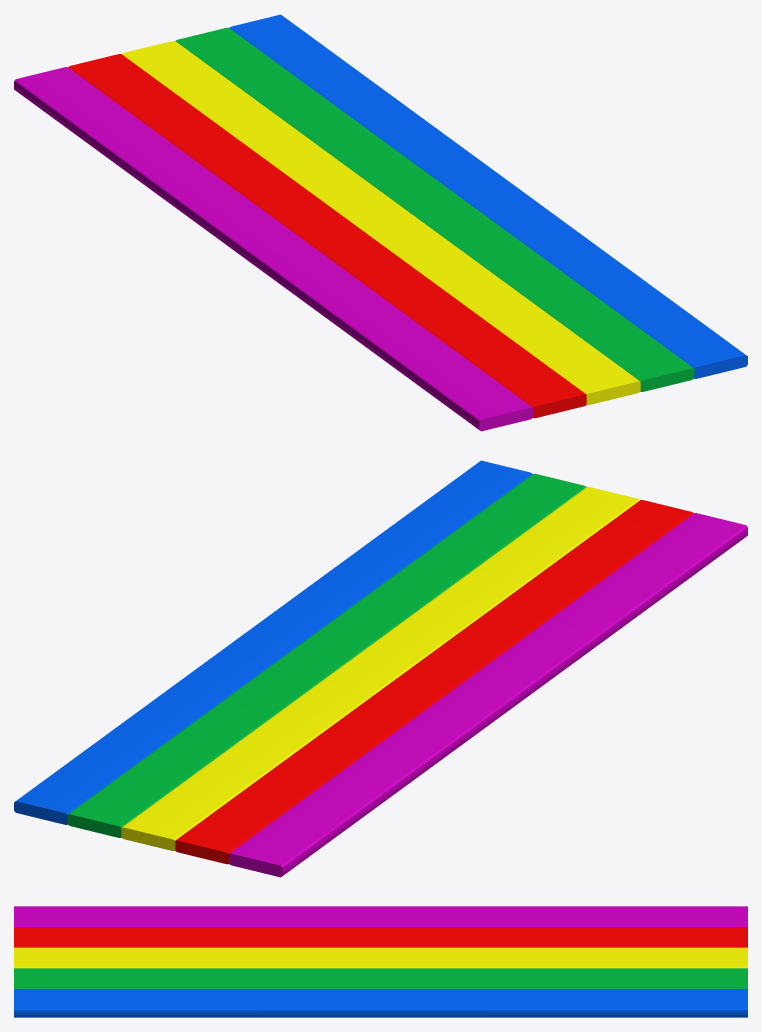
Rendered from platform_marmalade_001.glb.
3 views of the same model, one above another, from view 1: azimuth 30°, elevation 25°; view 2: azimuth 150°, elevation 25°; view 3: azimuth 270°, elevation 25° (orthographic). The views are drawn at different scales.
Parts seen in each view (by area): view 1: platform_marmalade_001; view 2: platform_marmalade_001; view 3: platform_marmalade_001.
Boxes of the visible parts, bbox=[...] form: platform_marmalade_001: bbox=[14, 14, 747, 431]; platform_marmalade_001: bbox=[14, 460, 747, 877]; platform_marmalade_001: bbox=[14, 906, 747, 1017].
Size of the model in its own units: 12 by 0.5 by 36.
1 material, 1 textured.
